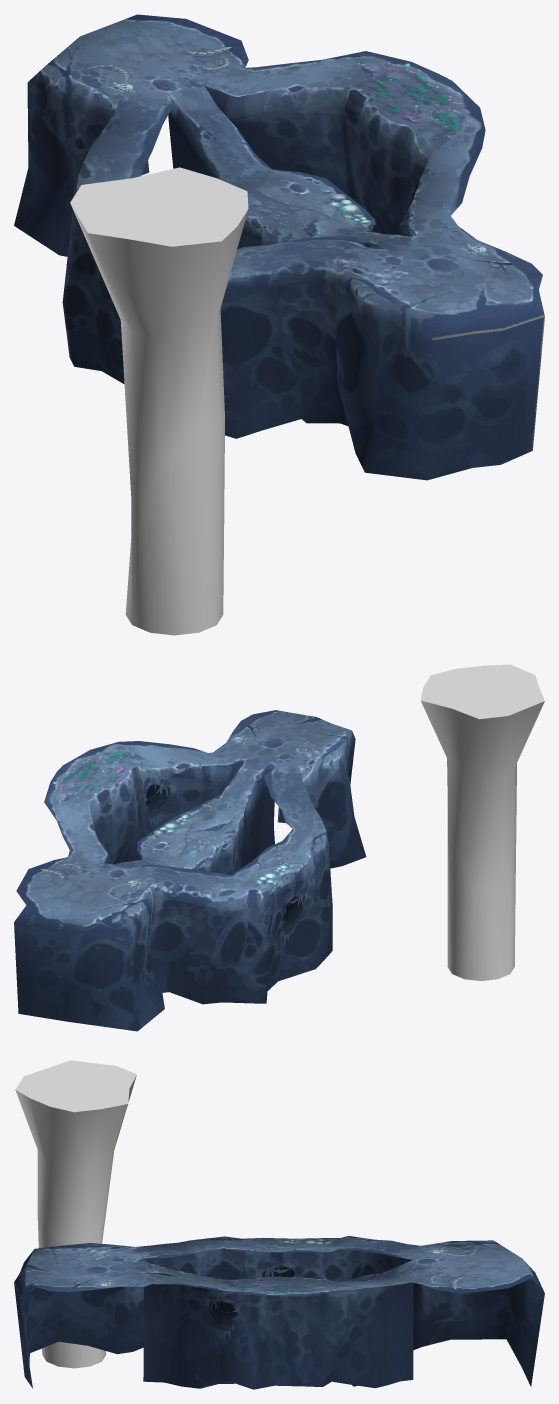
The model's file is SM_terrain_v2.FBX.
3 views of the same model, one above another, from view 1: azimuth 30°, elevation 25°; view 2: azimuth 150°, elevation 25°; view 3: azimuth 270°, elevation 25° (orthographic). The views are drawn at different scales.
Visible parts, largest first — view 1: Plane001, Cylinder001; view 2: Plane001, Cylinder001; view 3: Plane001, Cylinder001.
Part boxes in pixels (x1,y1,x2,y2): Plane001: (14, 14, 544, 480); Cylinder001: (70, 167, 248, 635); Plane001: (14, 710, 366, 1031); Cylinder001: (420, 664, 544, 980); Plane001: (14, 1236, 544, 1389); Cylinder001: (15, 1060, 136, 1368).
Bounding box in the file's own units: 79.45 × 57.87 × 105.
